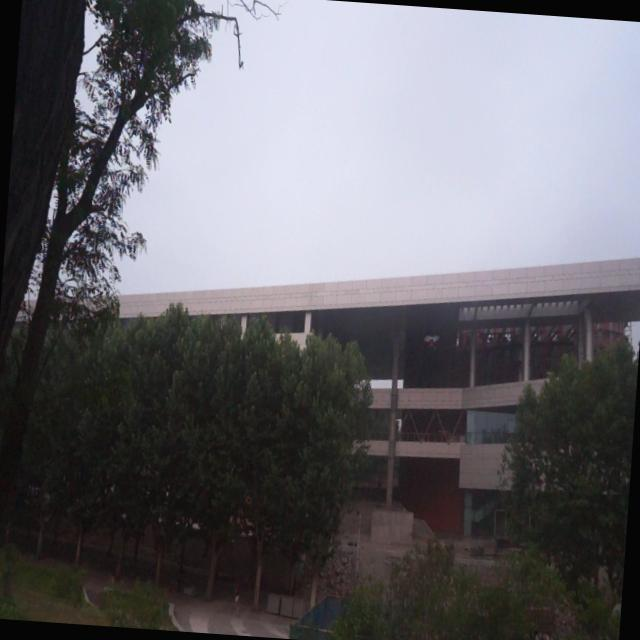drone: (418, 329, 442, 348)
